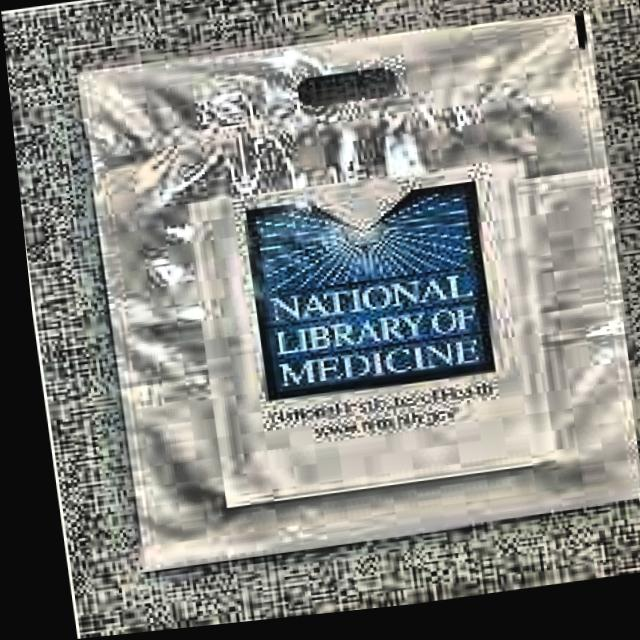Plastic: (55, 0, 640, 593)
